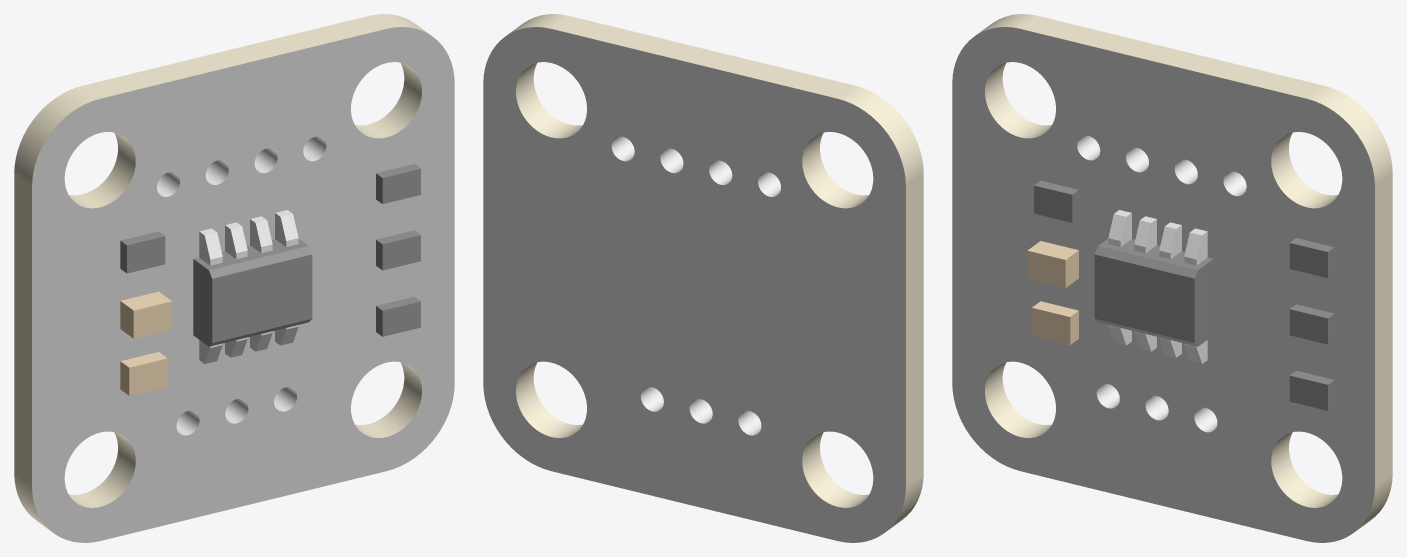
3 renders of one model, left to right at view 1: azimuth 30°, elevation 25°; view 2: azimuth 150°, elevation 25°; view 3: azimuth 330°, elevation 25°, orthographic.
Visible parts, largest first — view 1: mesh66, mesh111, mesh52, mesh50, mesh51, mesh58, mesh57, mesh46, mesh56, mesh109, mesh143, mesh133 (+8 smaller); view 2: mesh47, mesh52, mesh50, mesh51, mesh58, mesh57, mesh46, mesh56, mesh53; view 3: mesh66, mesh111, mesh48, mesh50, mesh49, mesh56, mesh46, mesh57, mesh58, mesh110, mesh143, mesh133 (+8 smaller).
Boxes of the visible parts, x1,y1,x2,y2 form: mesh66: (32,27,454,542); mesh111: (212,254,312,342); mesh52: (14,174,31,485); mesh50: (83,16,385,98); mesh51: (14,86,99,186); mesh58: (69,432,135,507); mesh57: (69,132,135,208); mesh46: (355,62,421,138); mesh56: (355,362,421,437); mesh109: (193,259,212,346); mesh143: (129,358,167,395); mesh133: (127,236,165,273); mesh47: (483,27,905,542); mesh52: (906,174,923,485); mesh50: (552,16,854,98); mesh51: (838,86,923,186); mesh58: (802,432,868,507); mesh57: (802,132,868,208); mesh46: (516,62,582,138); mesh56: (516,362,582,437); mesh53: (886,473,923,531); mesh66: (952,27,1374,542); mesh111: (1094,254,1194,342); mesh48: (1375,174,1392,485); mesh50: (1021,16,1323,98); mesh49: (1307,86,1392,186); mesh56: (1271,432,1337,507); mesh46: (1271,132,1337,208); mesh57: (985,62,1051,138); mesh58: (985,362,1051,437); mesh110: (1194,259,1213,346); mesh143: (1031,308,1070,344); mesh133: (1034,185,1072,222).
Bounding box in the file's own units: 0.022 × 0.022 × 0.0033.
